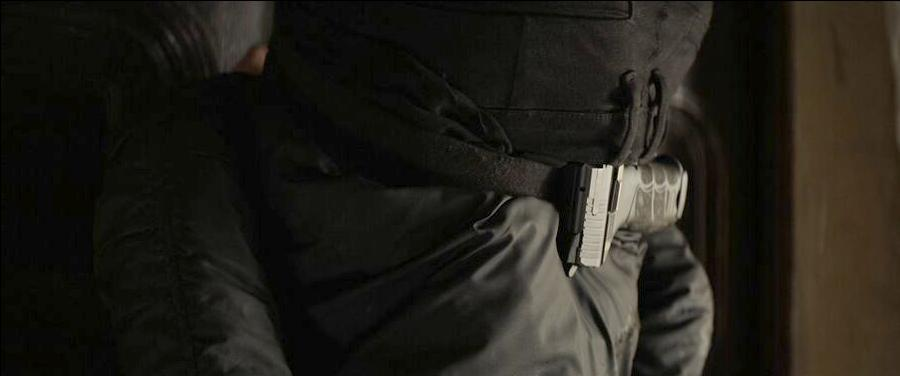gun: (552, 103, 693, 283)
